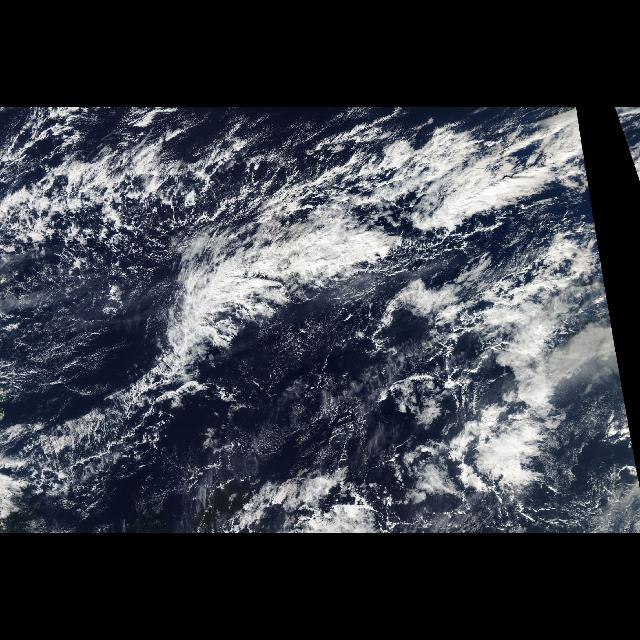Fish: (8, 134, 536, 518)
